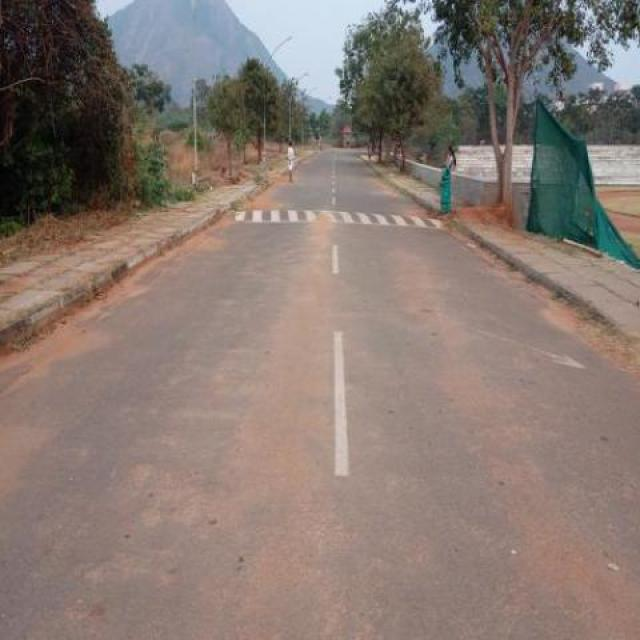Speed Bump: (228, 203, 441, 233)
